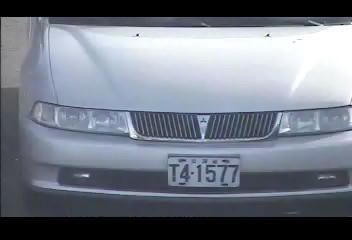plate: (166, 154, 240, 188)
